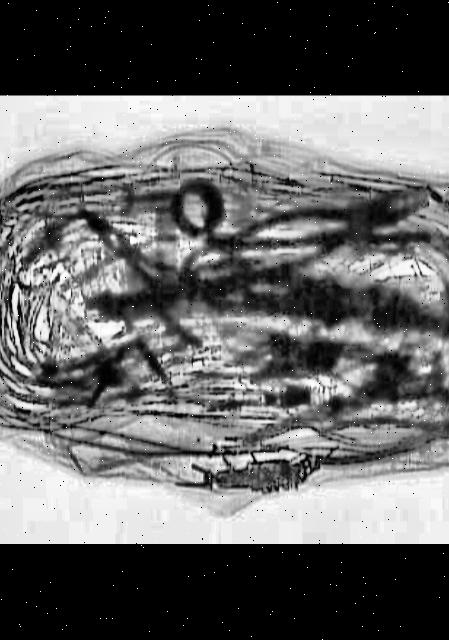Pliers: (224, 169, 437, 284), (304, 404, 449, 471)
